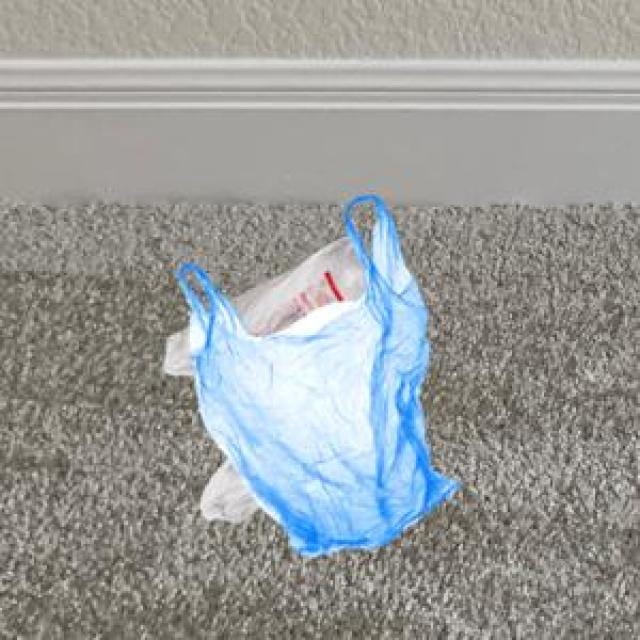plastic: (92, 178, 507, 574)
